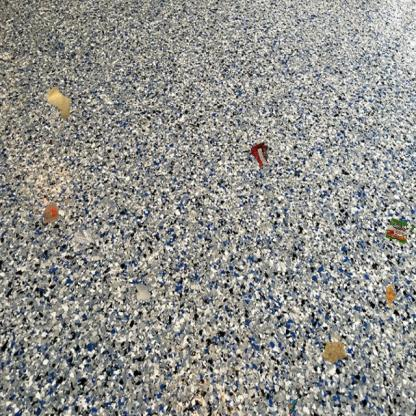dirty: (44, 85, 73, 120), (384, 217, 416, 245), (249, 141, 271, 167), (41, 201, 62, 225), (286, 386, 302, 415), (72, 227, 96, 245), (134, 282, 152, 303)
liquid: (320, 332, 350, 365), (384, 285, 397, 307)
